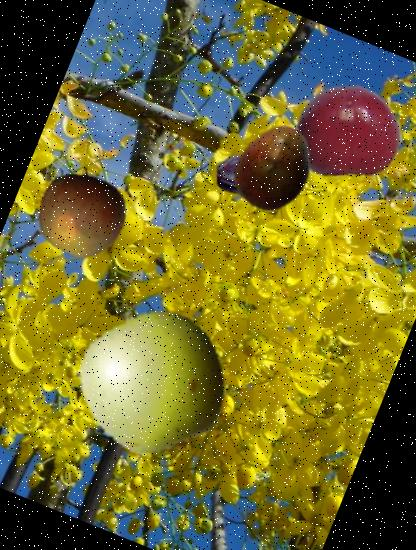Apple: (56, 282, 250, 476), (22, 152, 142, 272)
Cherry: (278, 64, 416, 200)
Dates: (202, 118, 314, 229)
Mango: (216, 109, 334, 227)
